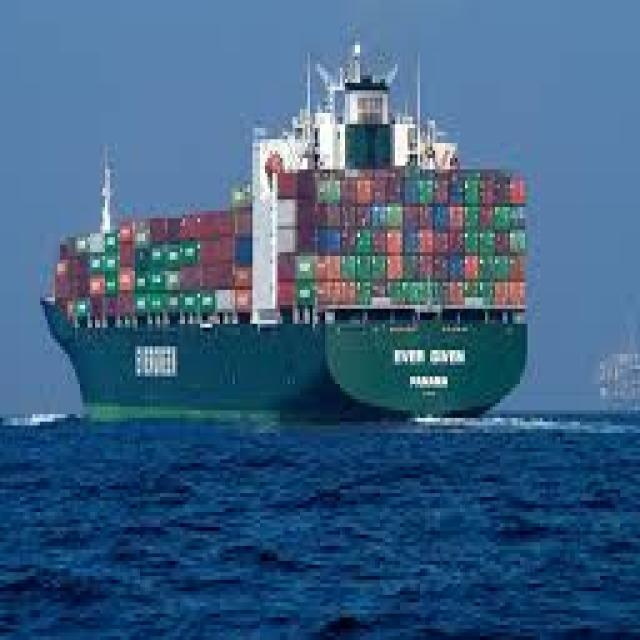cargoship: (45, 51, 538, 418)
